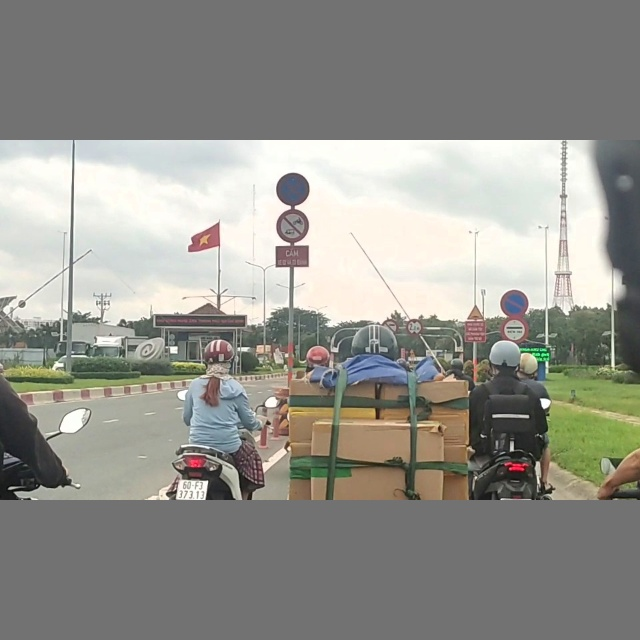P.111: (277, 209, 310, 243)
P.117*: (407, 318, 423, 335)
P.129: (501, 318, 529, 343)
P.130: (276, 173, 310, 205)
P.131a: (500, 290, 529, 315)
W.221b: (467, 303, 484, 320)
